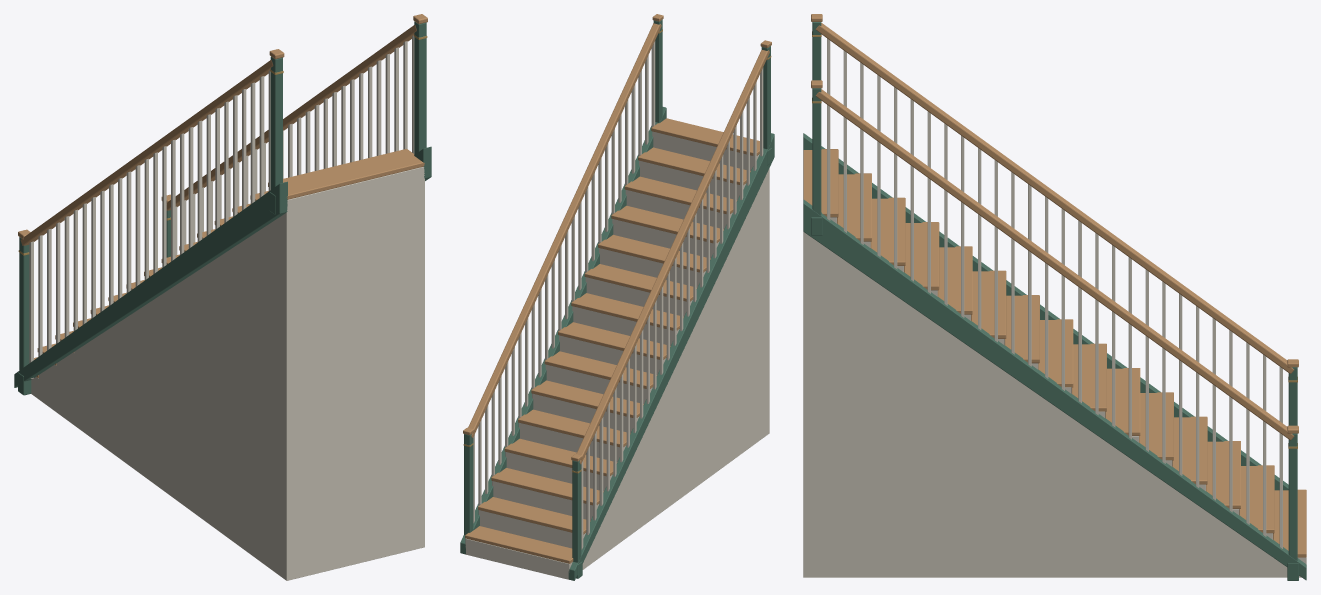
Rendered from juniper_stair.glb.
3 renders of one model, left to right at view 1: azimuth 30°, elevation 25°; view 2: azimuth 150°, elevation 25°; view 3: azimuth 270°, elevation 25°, orthographic. The views are drawn at different scales.
Visible parts, largest first — view 1: Juniper warm plaster, Juniper sage joinery, Juniper warm oak; view 2: Juniper warm plaster, Juniper warm oak, Juniper sage joinery; view 3: Juniper warm plaster, Juniper warm oak, Juniper sage joinery.
Part boxes in pixels (x1=…): Juniper warm plaster: x1=29, y1=35, x2=424, y2=580; Juniper sage joinery: x1=14, y1=21, x2=431, y2=395; Juniper warm oak: x1=18, y1=14, x2=427, y2=377; Juniper warm plaster: x1=465, y1=41, x2=769, y2=579; Juniper warm oak: x1=463, y1=14, x2=771, y2=563; Juniper sage joinery: x1=460, y1=19, x2=774, y2=580; Juniper warm plaster: x1=803, y1=38, x2=1306, y2=577; Juniper warm oak: x1=803, y1=14, x2=1306, y2=557; Juniper sage joinery: x1=803, y1=22, x2=1306, y2=580.
Bounding box in the file's own units: 1.25 × 4.09 × 3.75.
